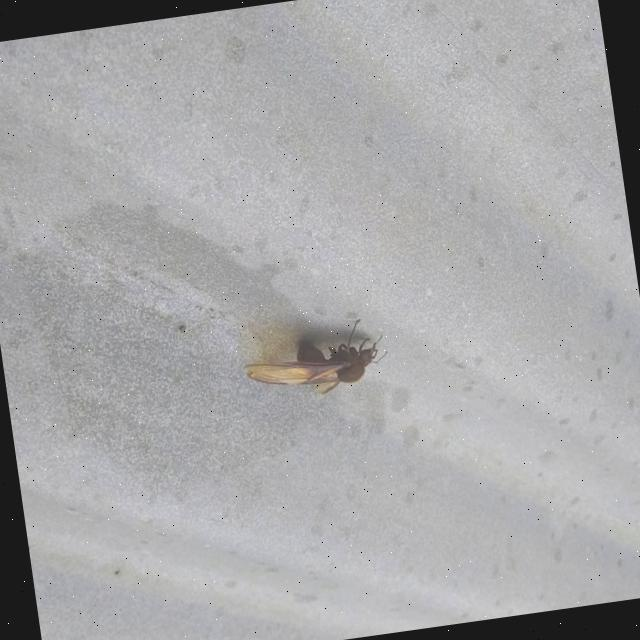Alive-Female-Alate: (237, 314, 393, 406)
